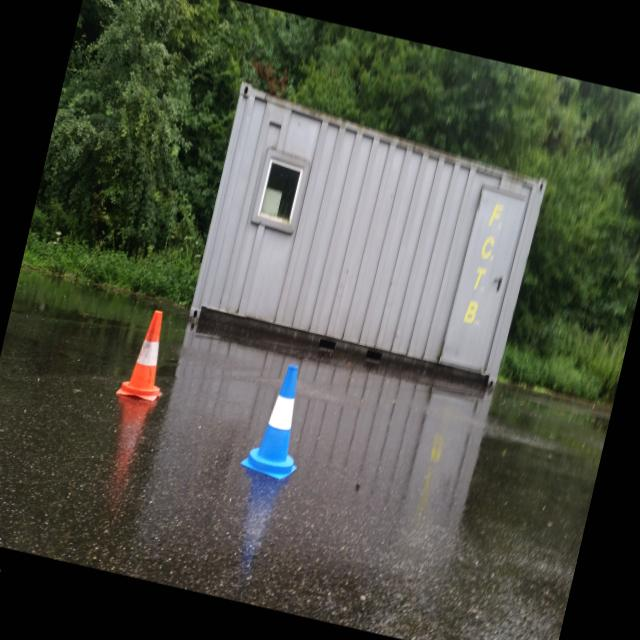blue_cone: (238, 358, 318, 482)
orange_cone: (114, 306, 180, 404)
